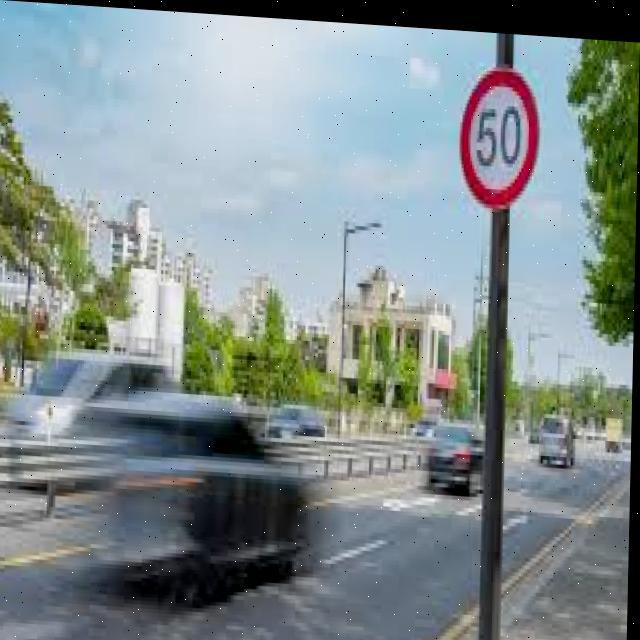Speed limit 50: (456, 52, 544, 209)
